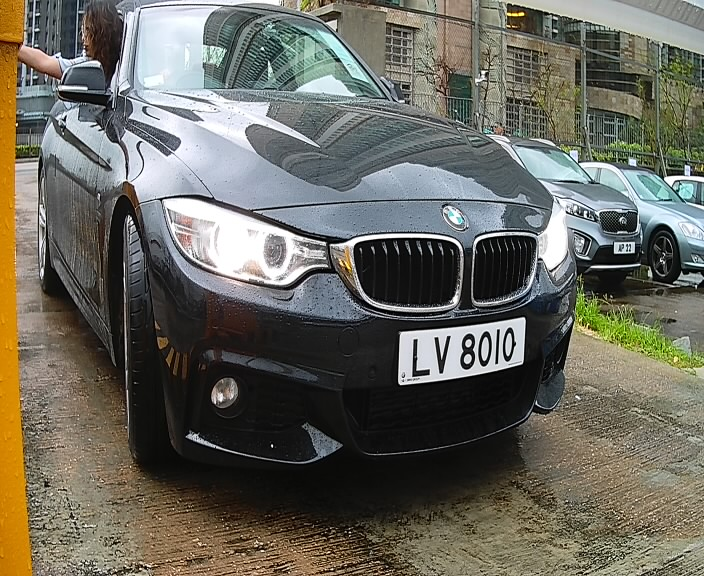Car: (42, 3, 582, 495)
License Plate: (386, 315, 535, 394)
